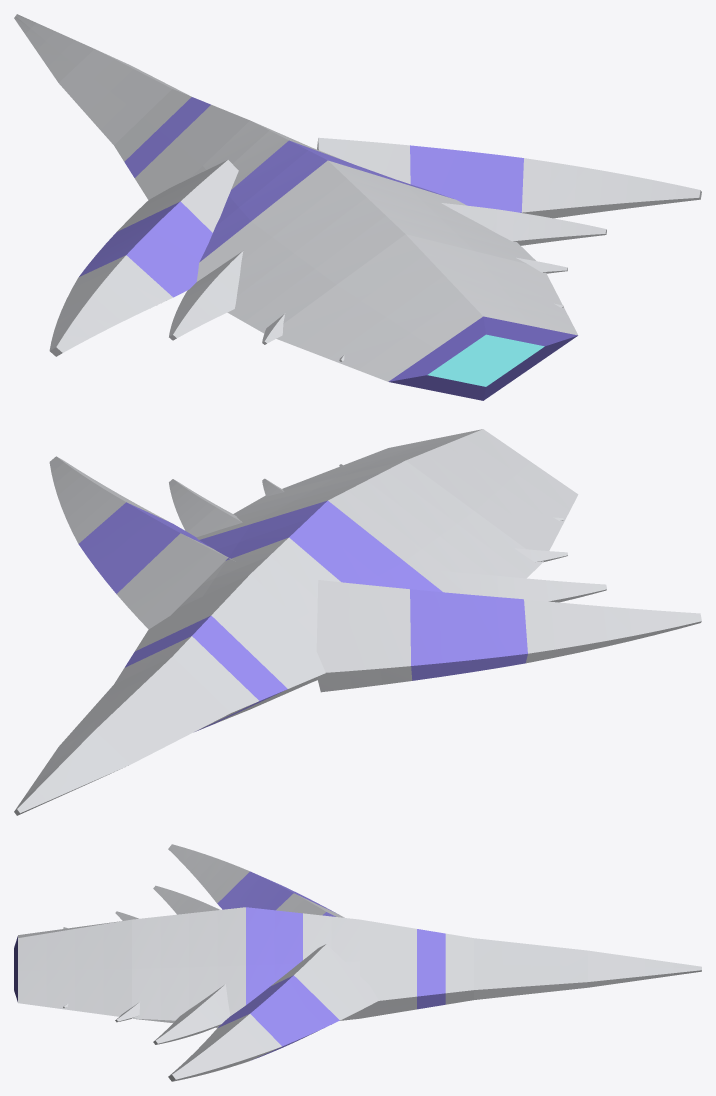
Rendered from axiom_bb.glb.
3 renders of one model, top to bottom at view 1: azimuth 30°, elevation 25°; view 2: azimuth 150°, elevation 25°; view 3: azimuth 270°, elevation 25°, orthographic. The views are drawn at different scales.
Visible parts, largest first — view 1: hull_mesh, limb_0_mesh, limb_0_port_mesh, limb_0_1_port_mesh, limb_0_1_mesh; view 2: hull_mesh, limb_0_mesh, limb_0_port_mesh, limb_0_1_mesh, limb_0_1_port_mesh; view 3: hull_mesh, limb_0_port_mesh, limb_0_mesh, limb_0_1_port_mesh, limb_0_1_mesh.
Part boxes in pixels (x1=…): hull_mesh: x1=14, y1=14, x2=578, y2=400; limb_0_mesh: x1=49, y1=160, x2=238, y2=356; limb_0_port_mesh: x1=317, y1=137, x2=701, y2=218; limb_0_1_port_mesh: x1=441, y1=203, x2=606, y2=245; limb_0_1_mesh: x1=169, y1=251, x2=243, y2=340; hull_mesh: x1=14, y1=429, x2=578, y2=815; limb_0_mesh: x1=316, y1=580, x2=701, y2=692; limb_0_port_mesh: x1=49, y1=456, x2=235, y2=629; limb_0_1_mesh: x1=440, y1=571, x2=606, y2=602; limb_0_1_port_mesh: x1=169, y1=479, x2=242, y2=537; hull_mesh: x1=14, y1=907, x2=701, y2=1027; limb_0_port_mesh: x1=168, y1=944, x2=378, y2=1081; limb_0_mesh: x1=168, y1=844, x2=344, y2=917; limb_0_1_port_mesh: x1=153, y1=984, x2=230, y2=1044; limb_0_1_mesh: x1=153, y1=885, x2=220, y2=914.
Bounding box in the file's own units: 154 × 38 × 191.
